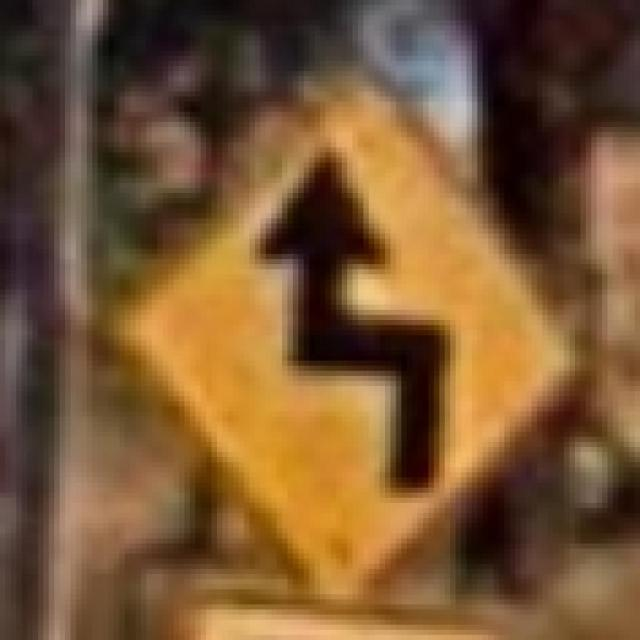Tikungan Ganda Pertama Ke Kiri: (86, 61, 596, 615)
